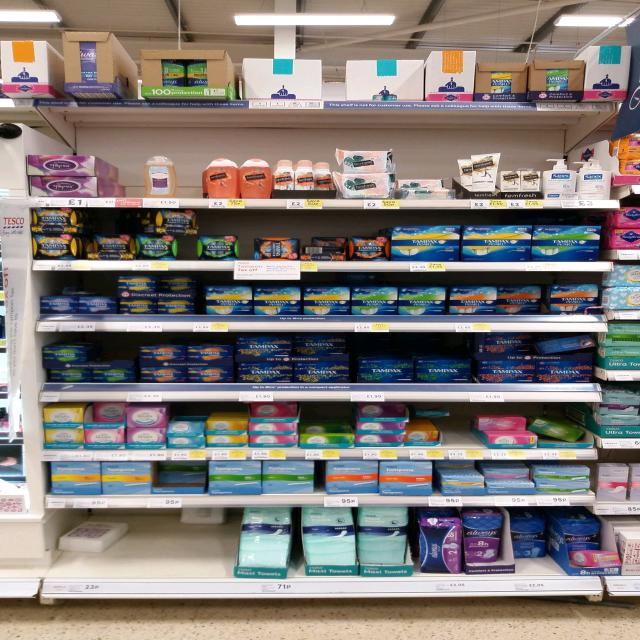void: (128, 509, 176, 592), (103, 151, 136, 205), (446, 432, 476, 448)
